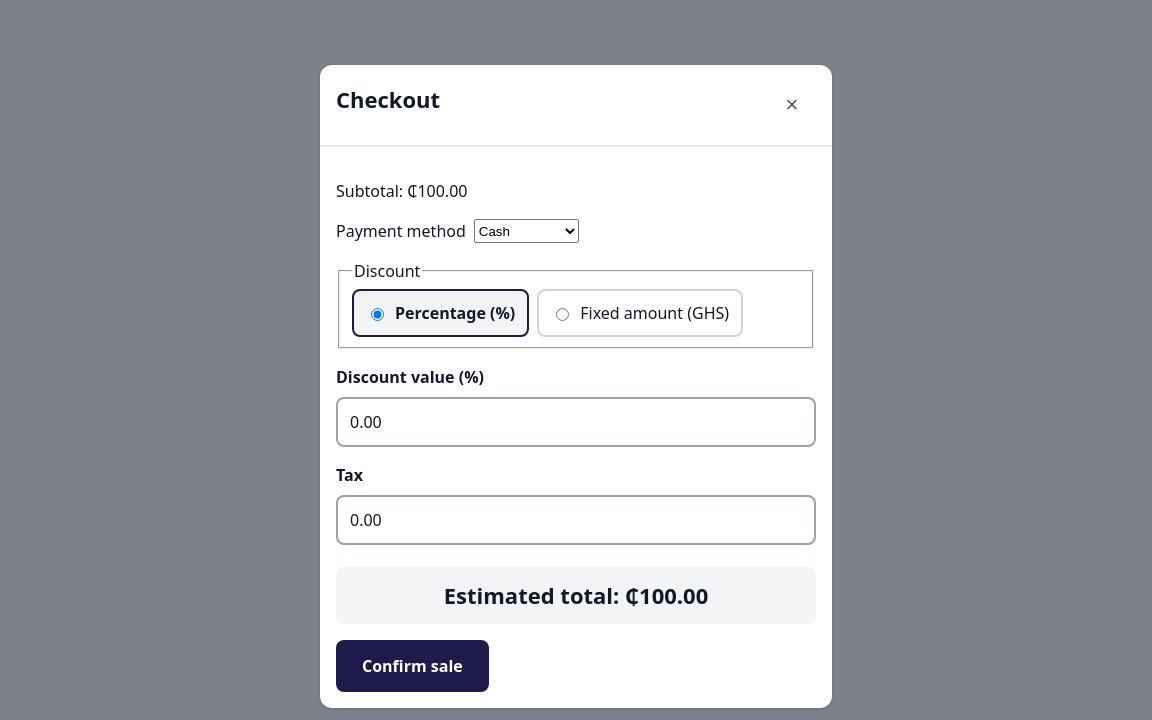
Test: CheckoutModal — discount type toggle › resets the discount value to a safe default when switching type
In the field labelled "Discount value (%)": (576, 422) left=336, top=397, right=816, bottom=447, type "25.00"
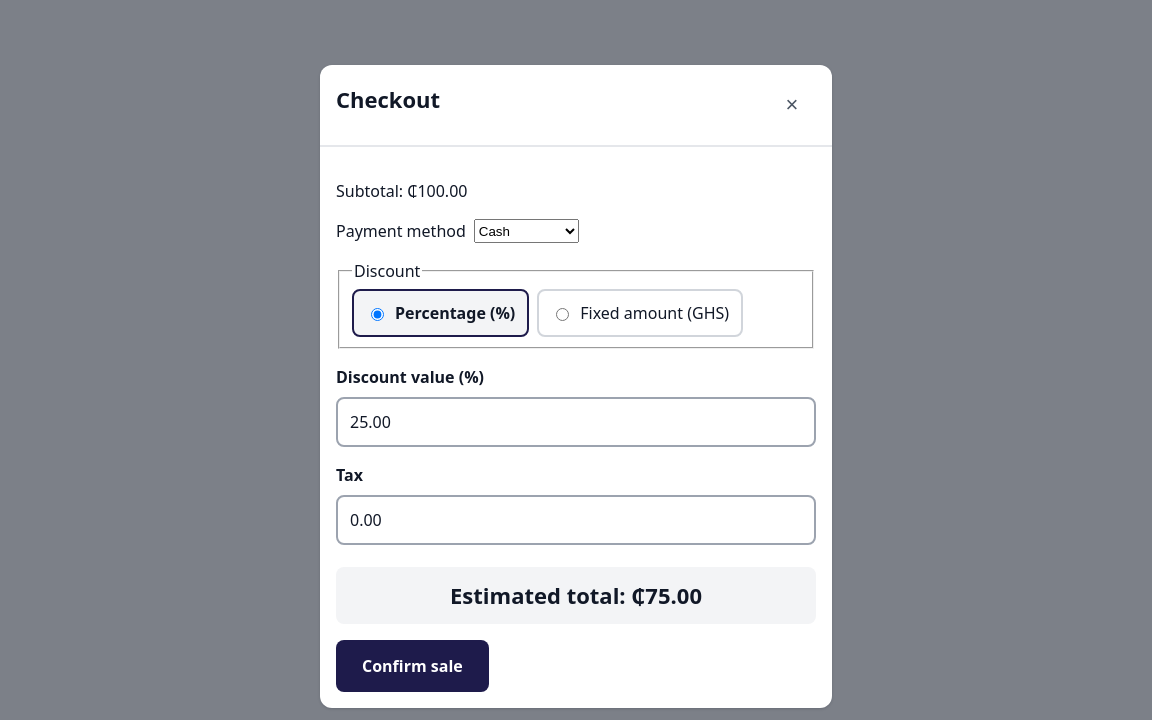
Click the radio button labelled "Fixed amount (GHS)": (563, 314) left=556, top=308, right=569, bottom=321
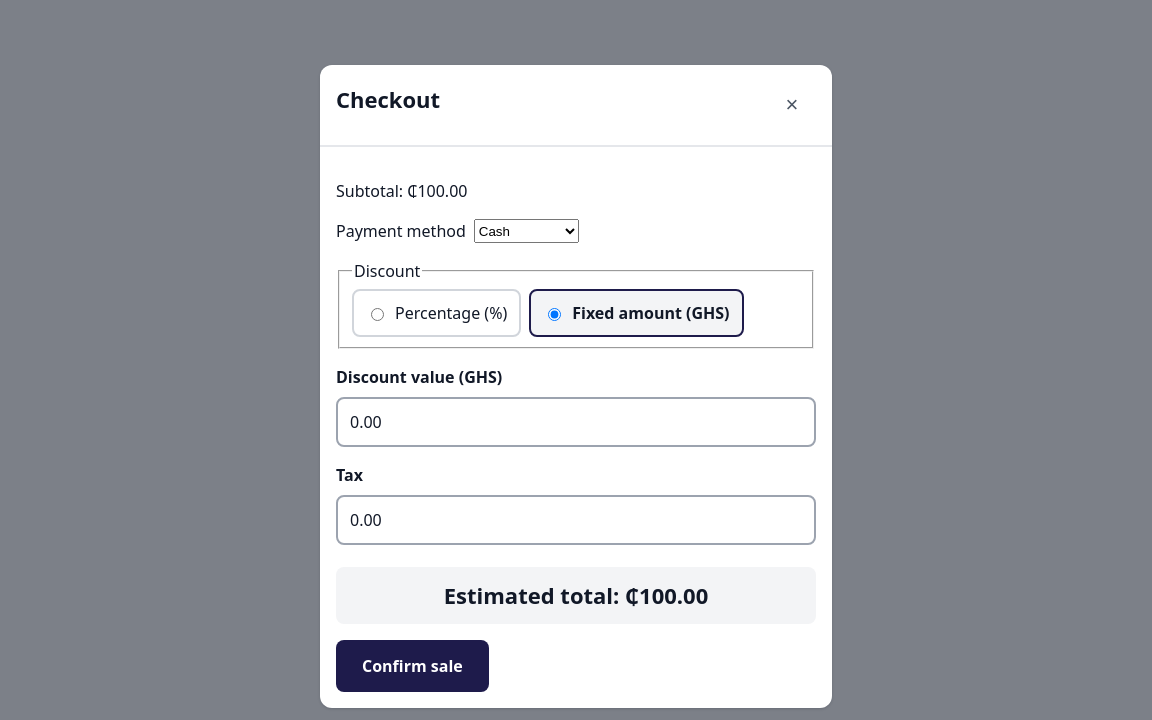
Check: the field labelled "Discount value (GHS)" holds "0.00", box left=336, top=397, right=816, bottom=447
